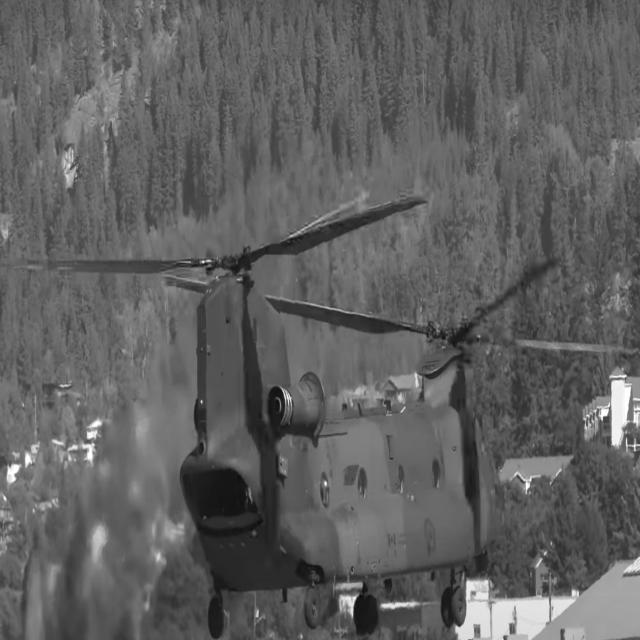Helicopter: (58, 192, 550, 638)
